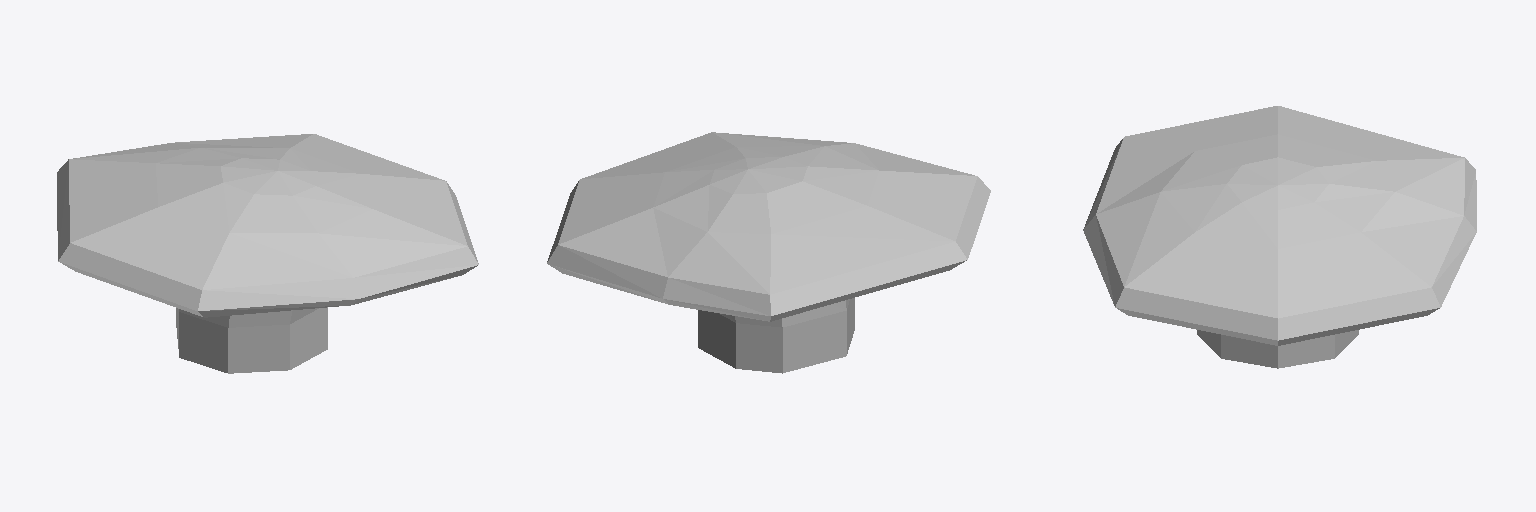
The model's file is shroom3.obj.
3 renders of one model, left to right at view 1: azimuth 30°, elevation 25°; view 2: azimuth 150°, elevation 25°; view 3: azimuth 270°, elevation 25°, orthographic.
Visible parts, largest first — view 1: Shroom8_Cylinder.008; view 2: Shroom8_Cylinder.008; view 3: Shroom8_Cylinder.008.
Part boxes in pixels (x1,y1,x2,y2): Shroom8_Cylinder.008: (57,134,478,373); Shroom8_Cylinder.008: (547,132,990,373); Shroom8_Cylinder.008: (1083,106,1476,368).
Bounding box in the file's own units: 0.3455 × 0.1364 × 0.2961.